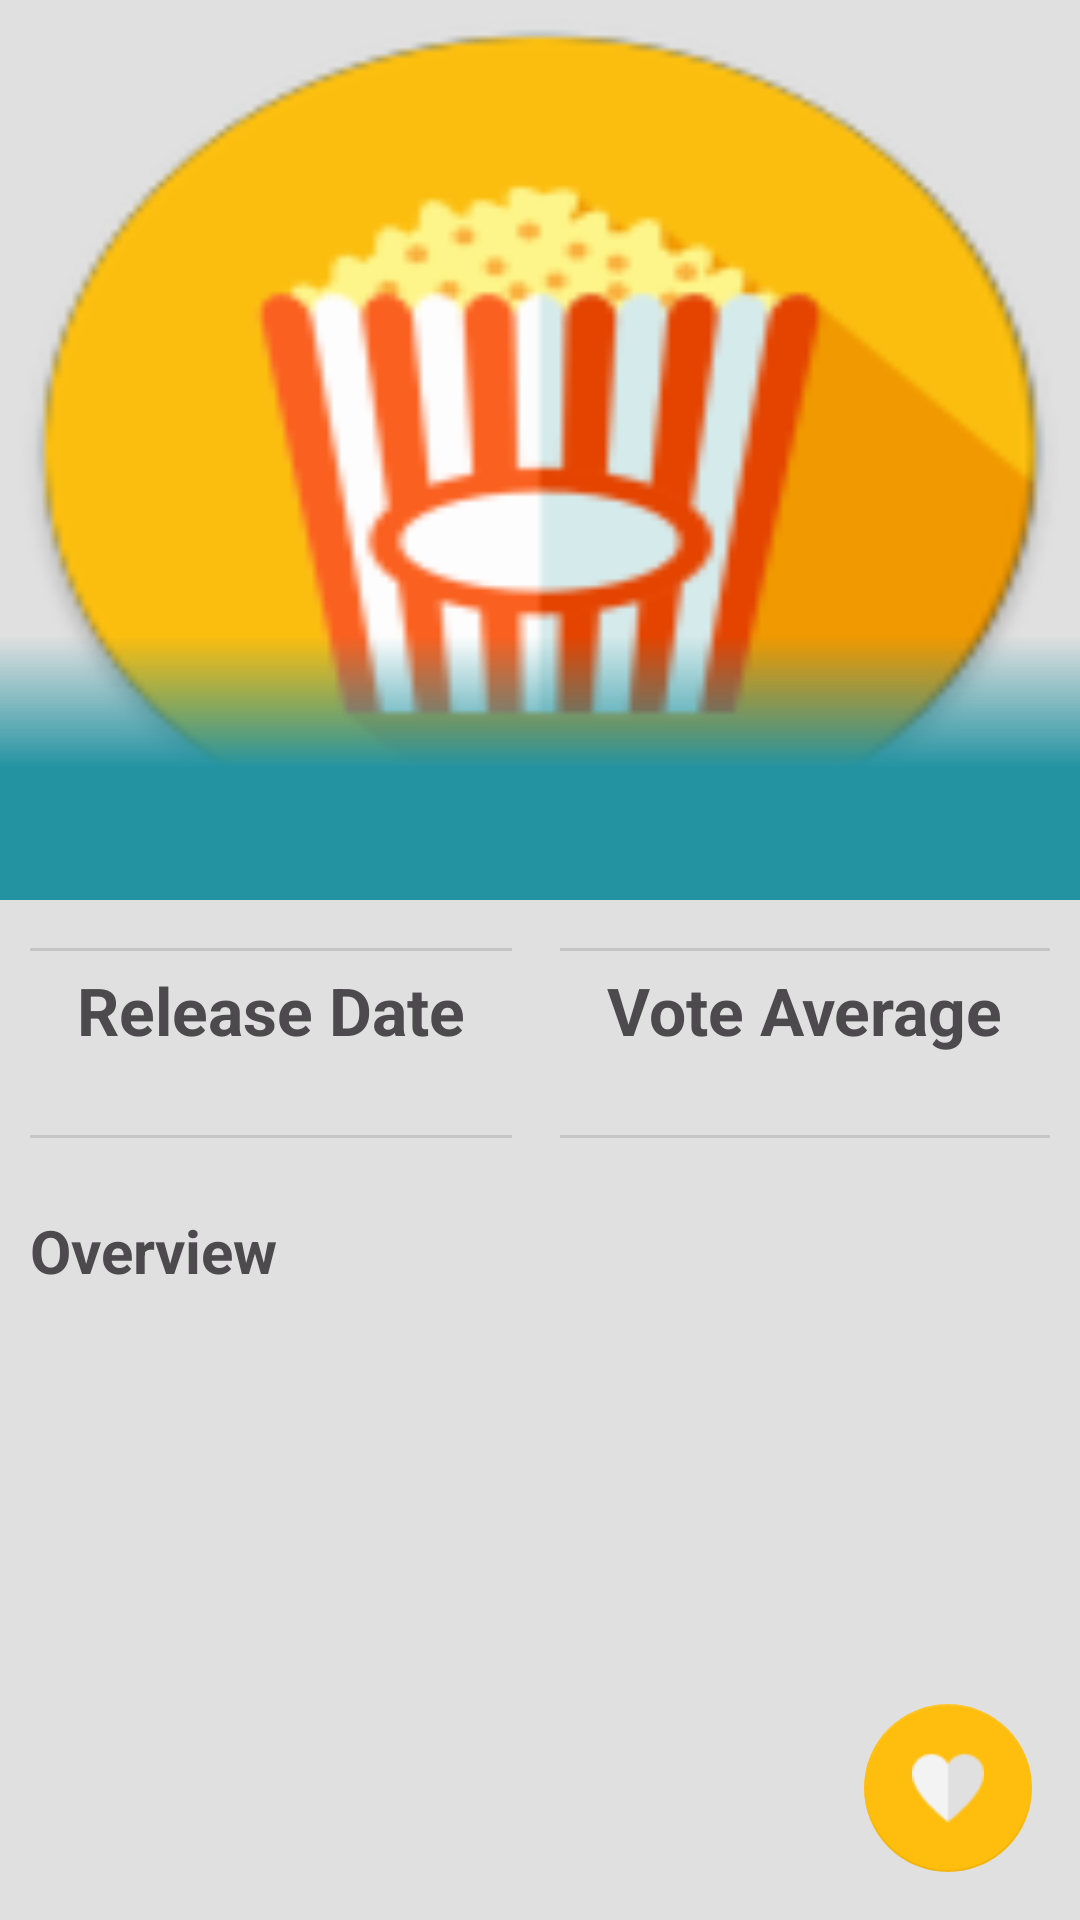

Icons on this 1080w x 1920h Android screen, each with its box as bbox(x1, y1, x2, y2):
nfav: bbox(864, 1704, 1032, 1872)
